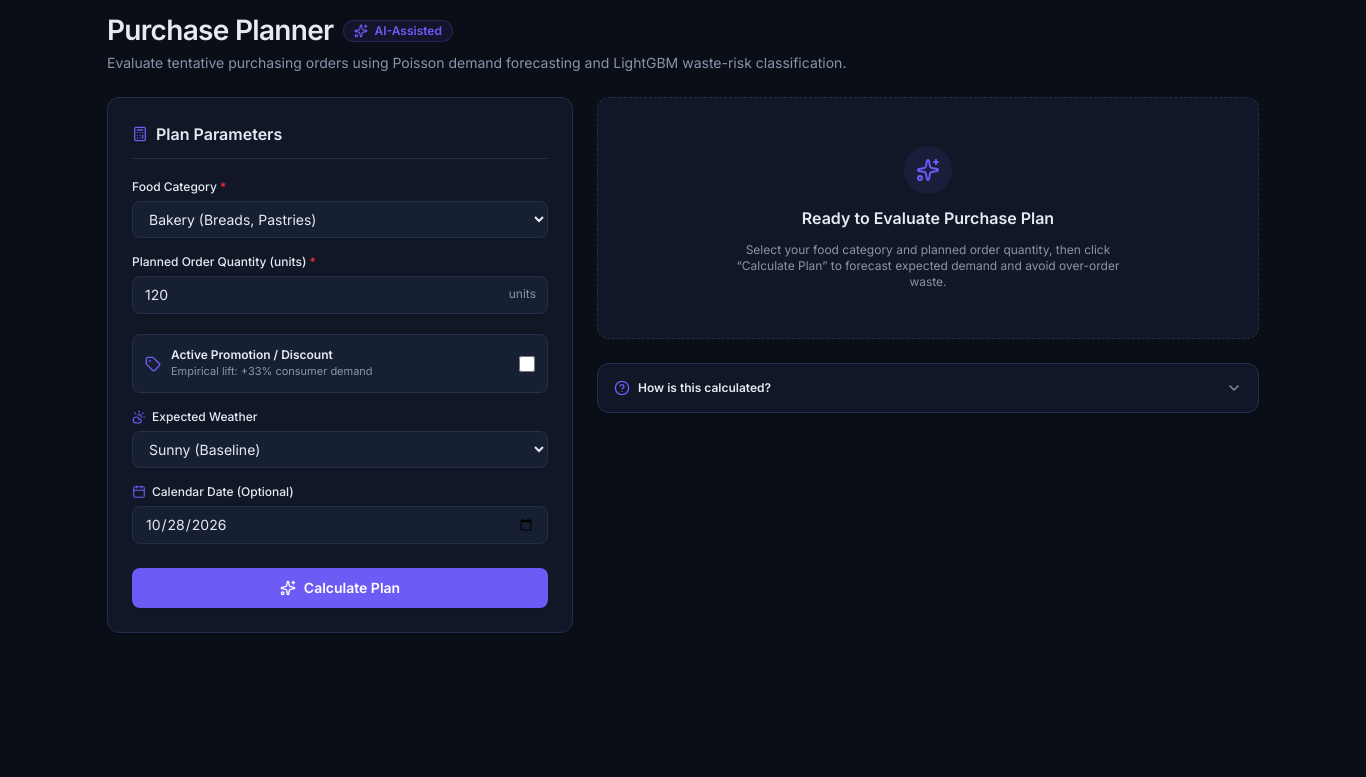
Scenario: AI Waste Predictions & Benchmark Insights (Task 3) › BusinessPurchasePlannerPage › submits purchase plan, renders forecast range, waste risk badge, and plain-language explanation
Replace the text in the number field labelled "Planned Order Quantity (units) *" with "180" at (340, 295), box x1=132 y1=276 x2=548 y2=314
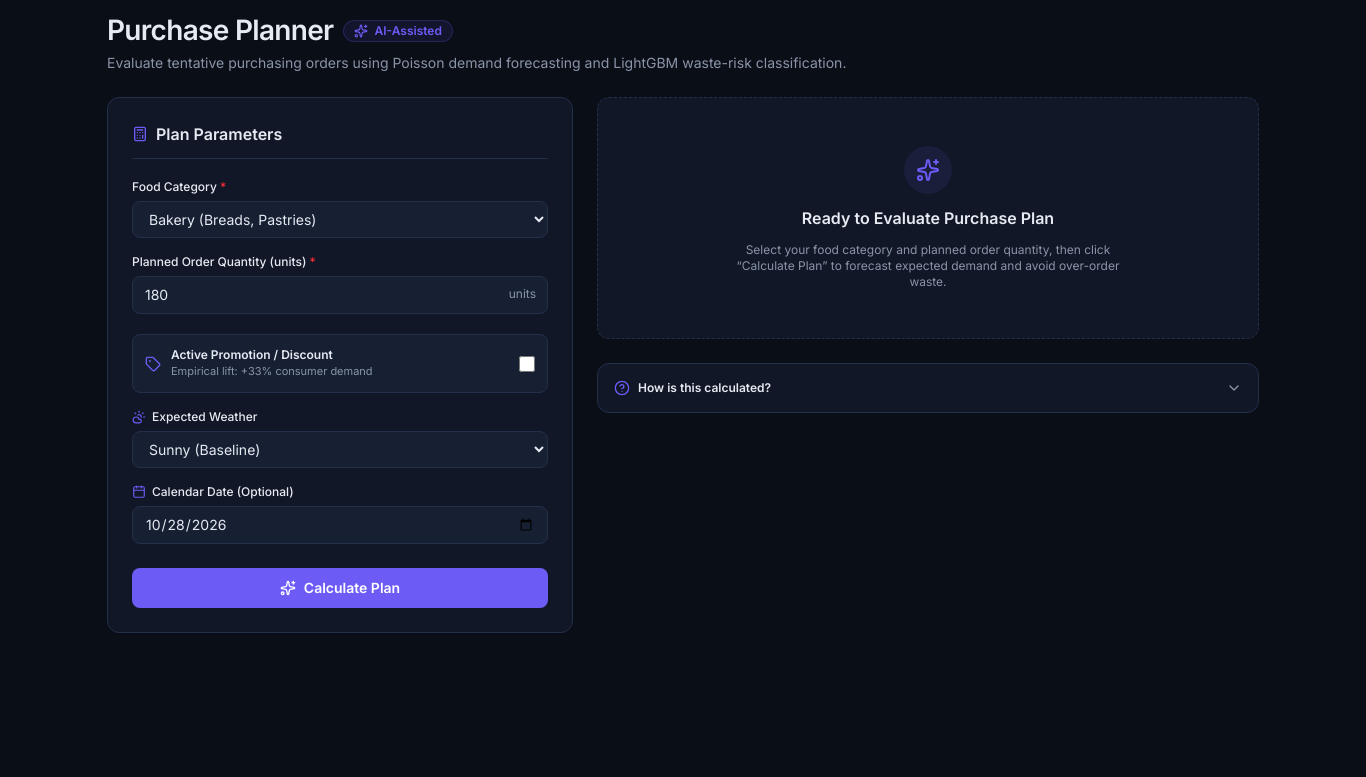
Click the button "Calculate Plan" at (340, 588), box x1=132 y1=568 x2=548 y2=608
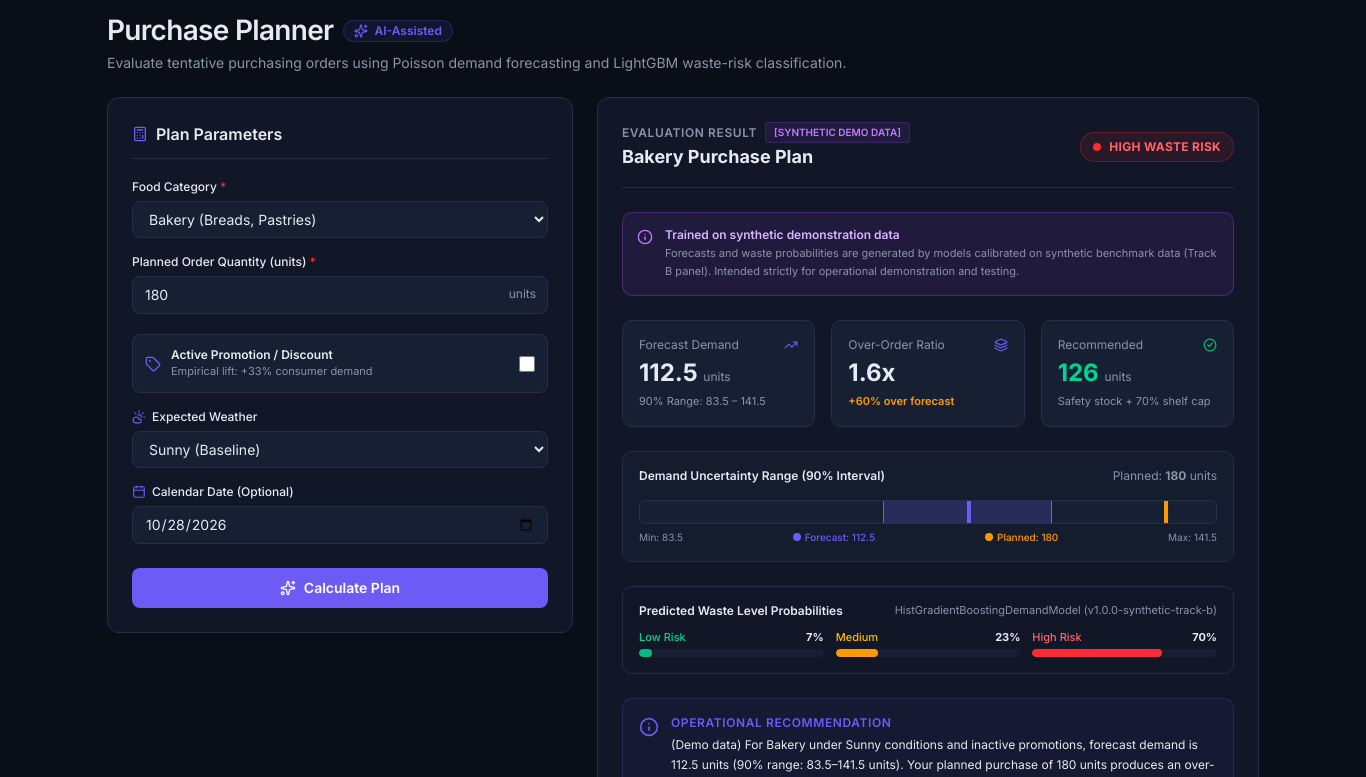
Result: the text "Evaluation Result" is shown at x1=622 y1=125 x2=757 y2=141
Result: the heading "Operational Recommendation" is shown at x1=671 y1=715 x2=892 y2=730
Result: the text "[SYNTHETIC DEMO DATA]" is shown at x1=765 y1=122 x2=910 y2=143
